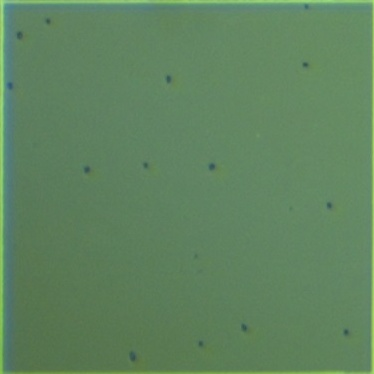spore: (80, 162, 93, 175), (140, 159, 152, 171), (207, 161, 219, 173)
